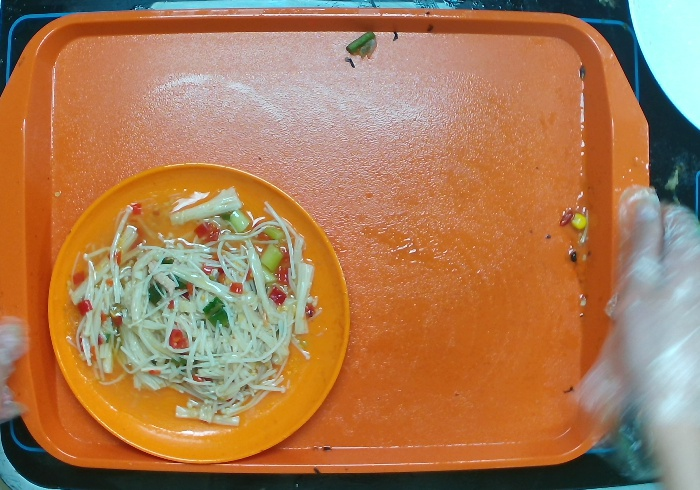HZYJPL-Ju_Huang_Yuan_Pan: (44, 159, 352, 467)
